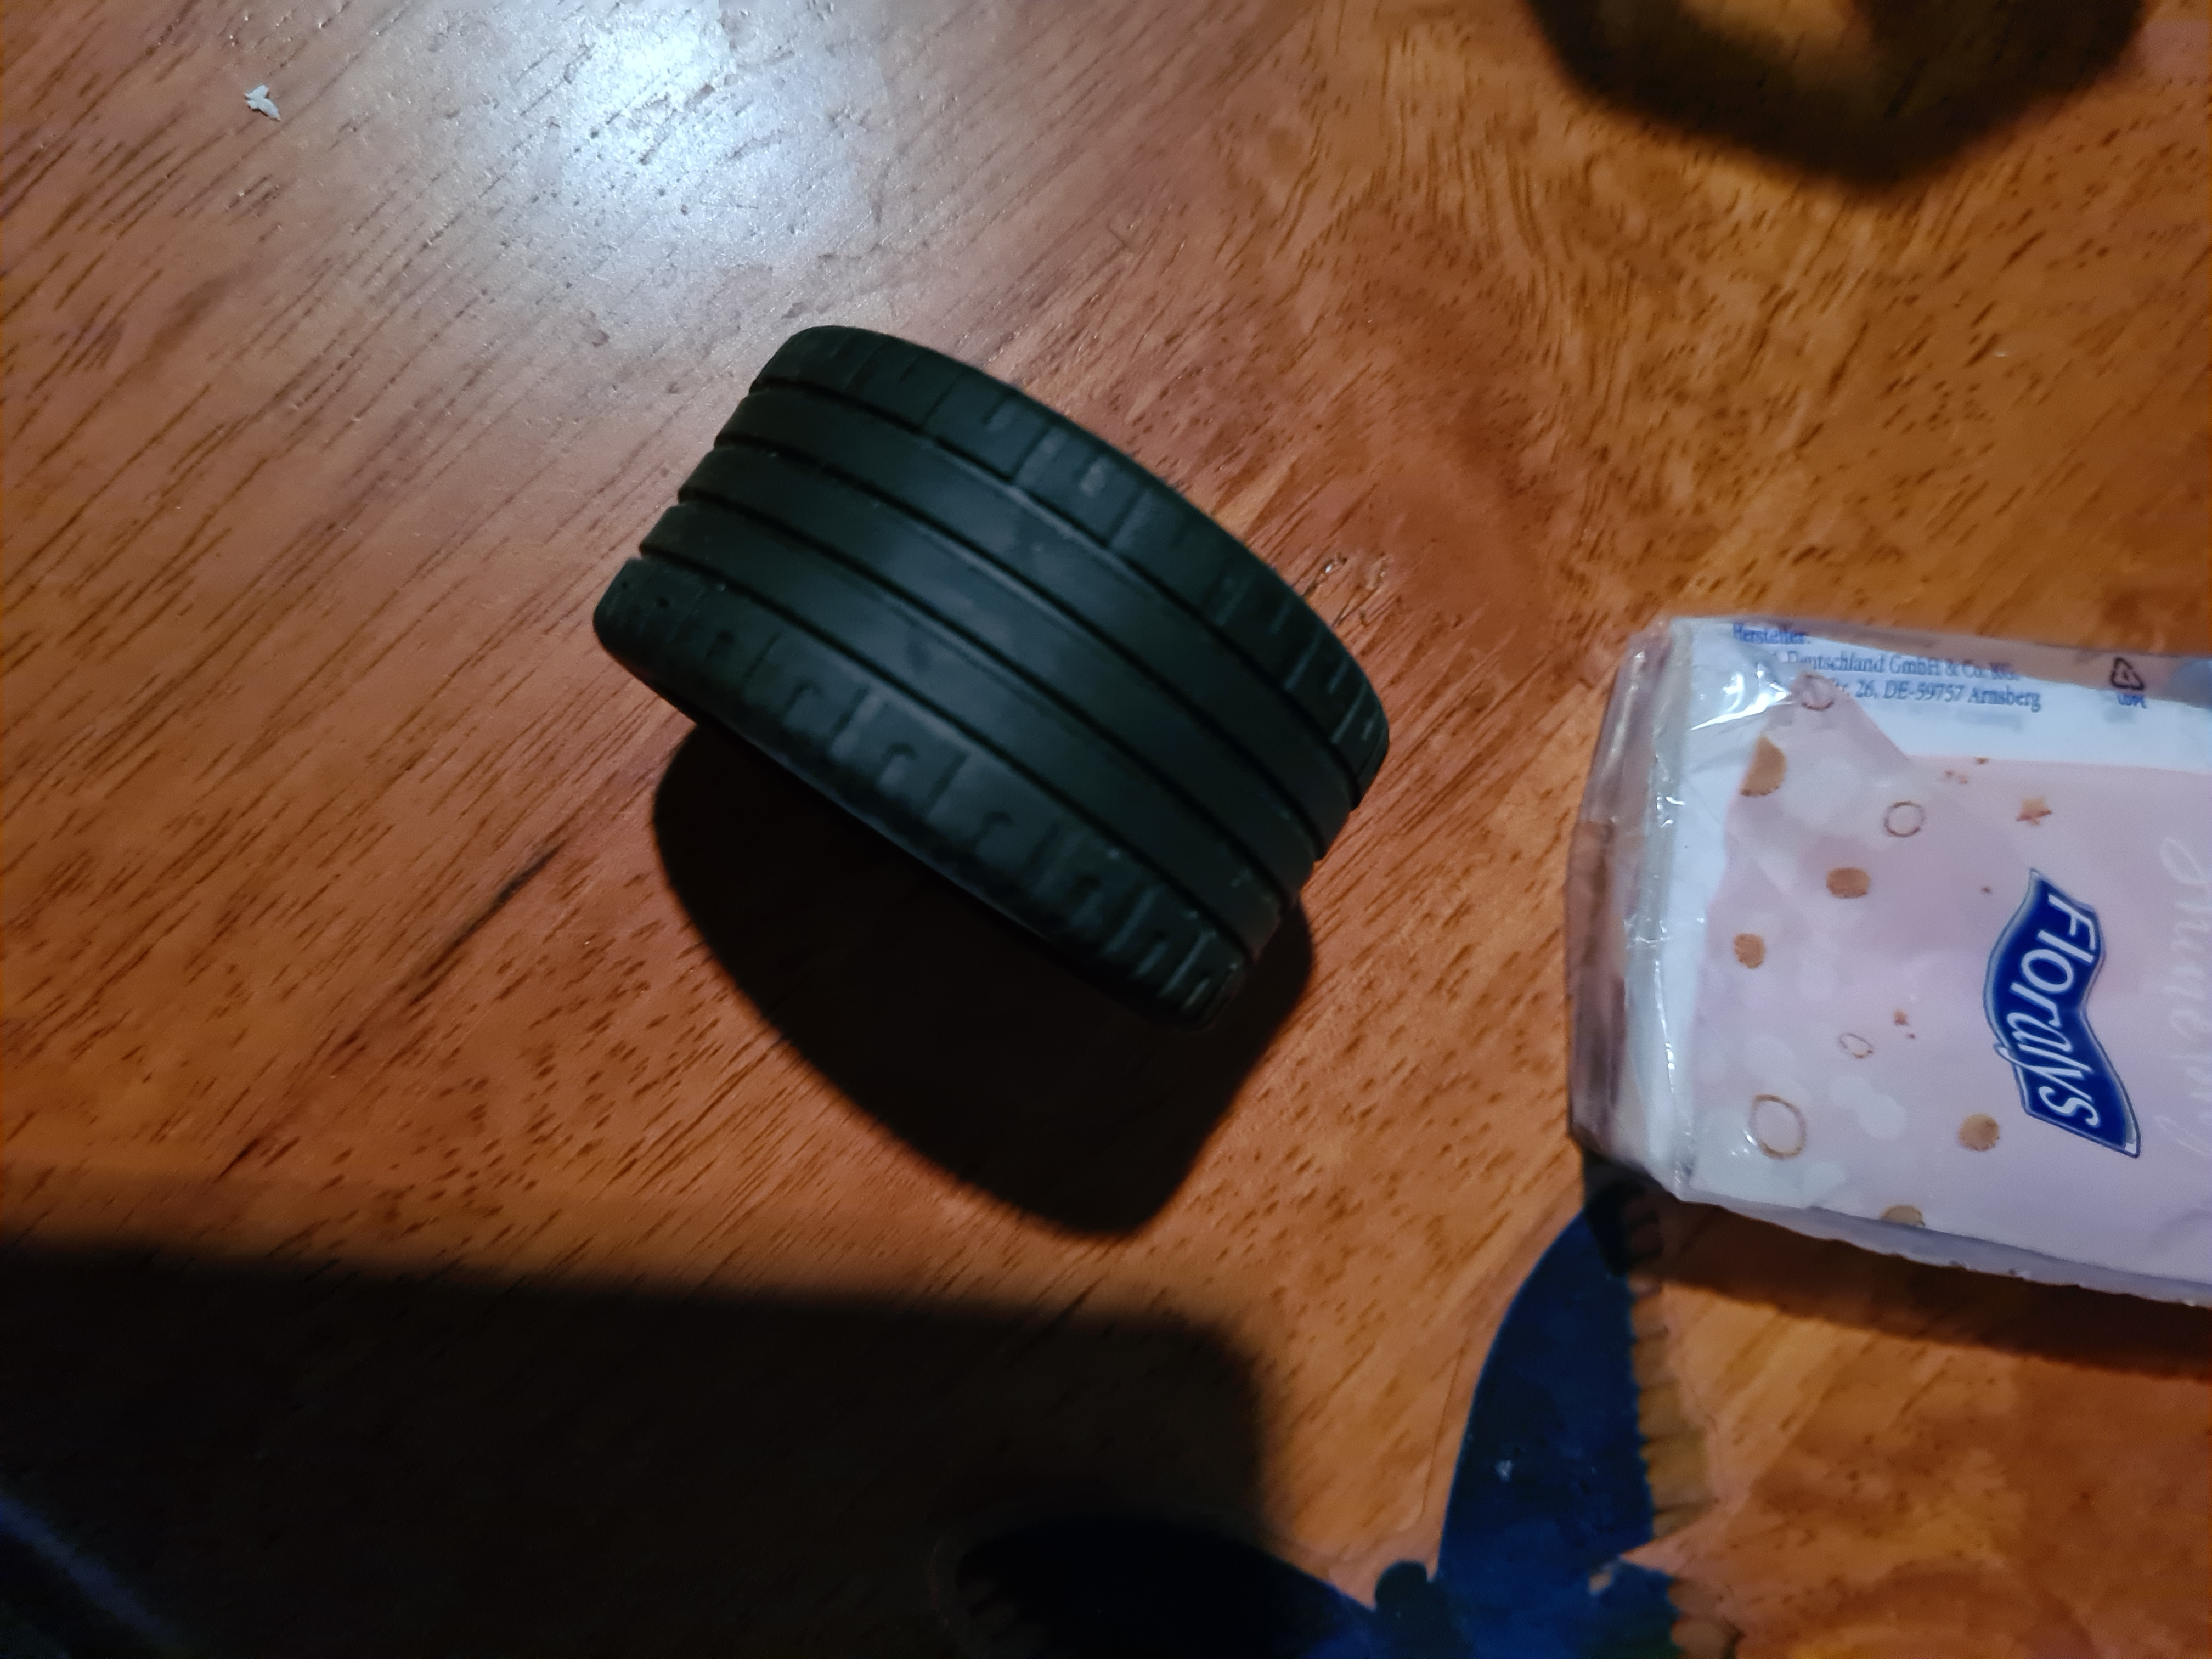Rad: (585, 305, 1411, 1061)
